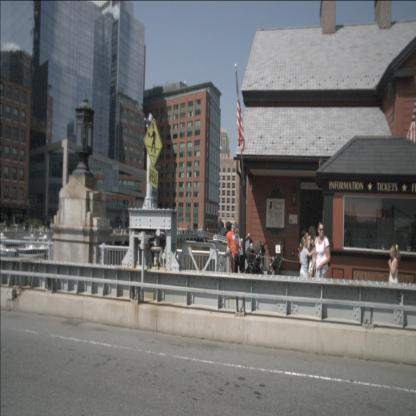human-pedestrian-adult: (310, 220, 330, 321), (226, 221, 239, 298), (302, 225, 316, 296), (232, 223, 244, 289), (229, 226, 239, 289)
